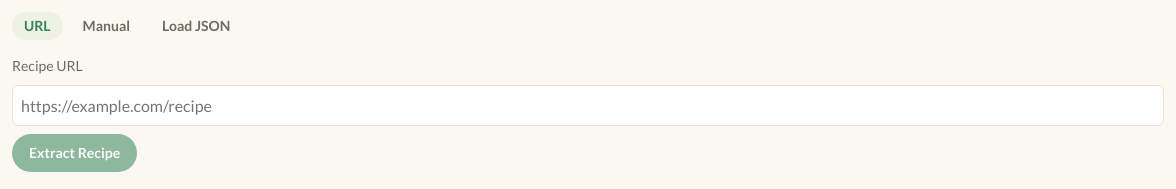
it: IngestTabs › switches to the Load JSON panel when the Load JSON tab is clicked
Click the tab "Load JSON" at [196, 26], box [150,12,242,40]
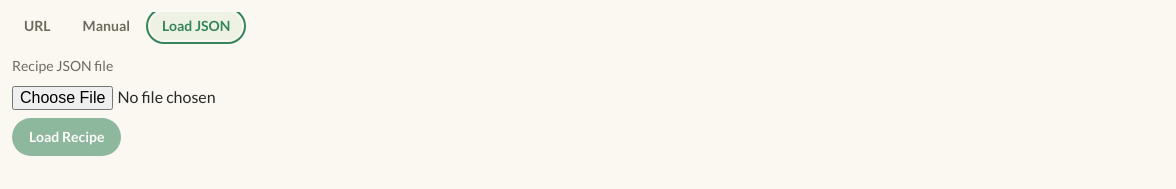
Now the file field labelled "Recipe JSON file" is shown, box [12,85,1164,110]
Now the label labelled "Recipe URL" is gone
